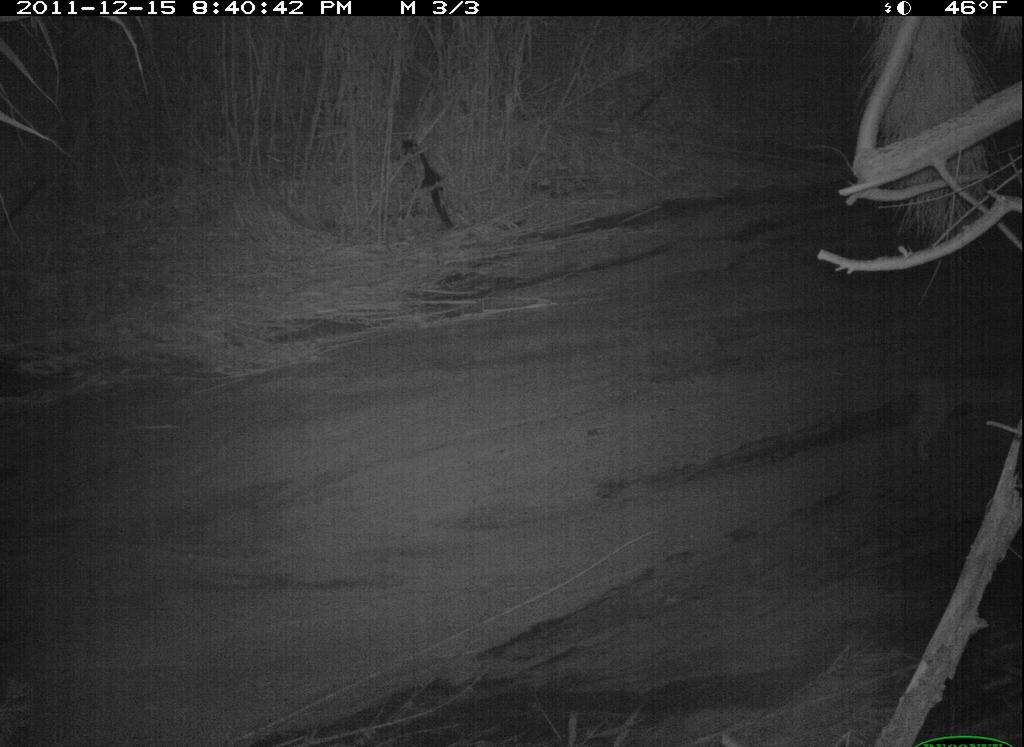bobcat: (896, 358, 1024, 472)
